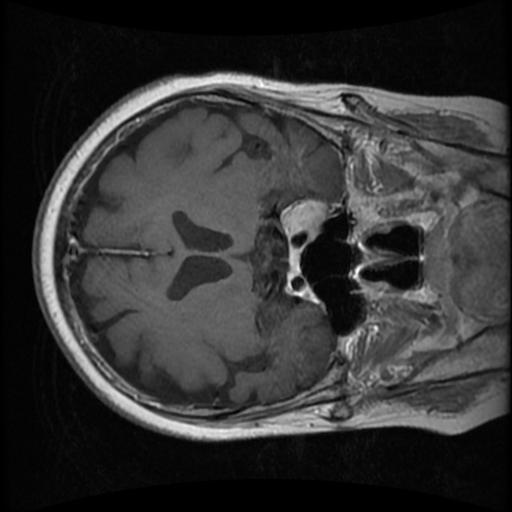meningioma: (279, 197, 325, 235)
